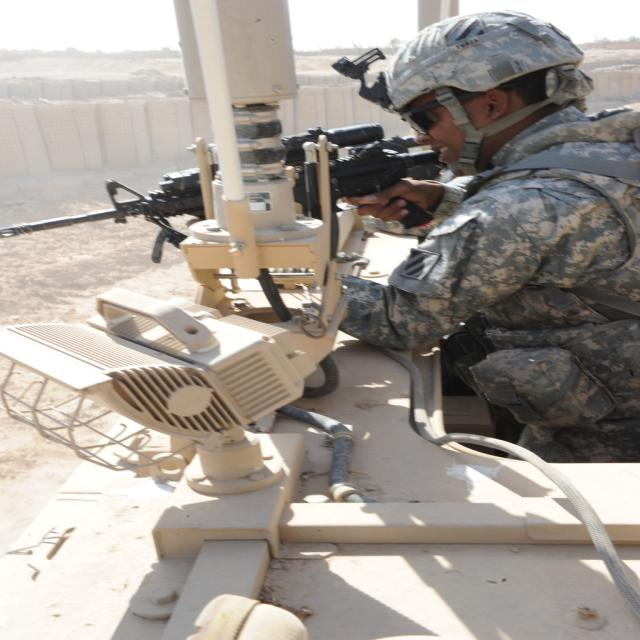Weapon: (18, 157, 502, 270)
